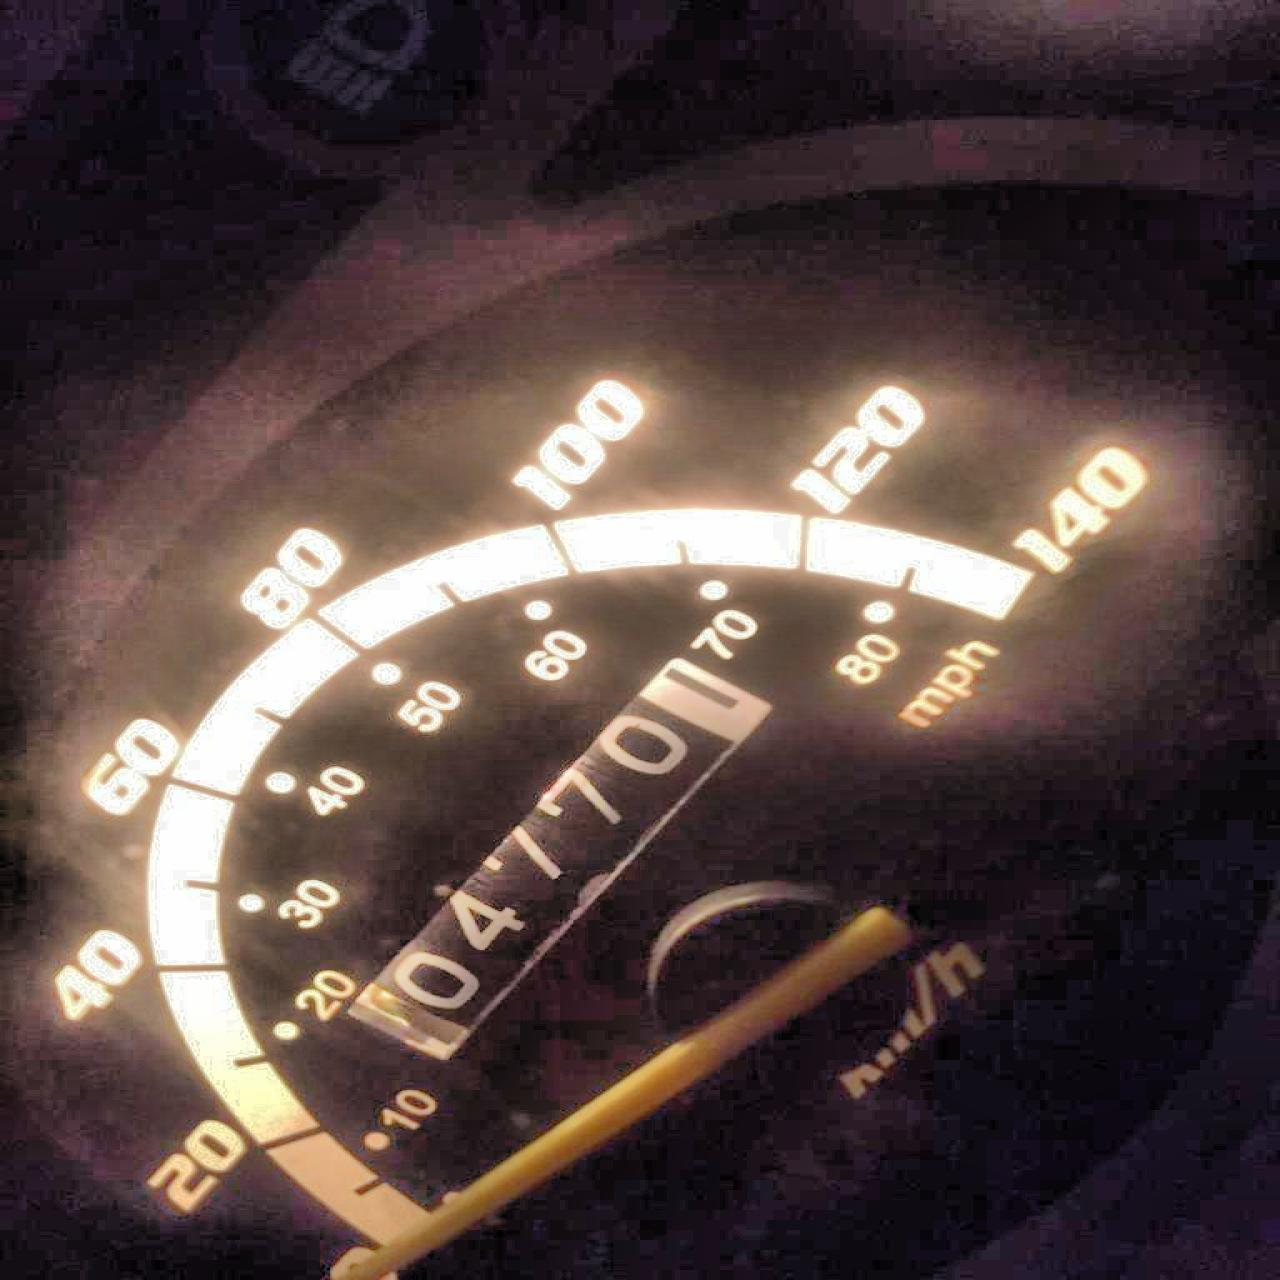0: (597, 714, 693, 779), (390, 954, 485, 1012), (415, 678, 463, 712), (319, 761, 365, 795), (313, 967, 356, 998)
1: (656, 661, 745, 715)
4: (440, 886, 533, 953)
5: (392, 701, 443, 733)
6: (518, 648, 572, 682)
7: (530, 763, 628, 837), (477, 825, 565, 888)
odometer: (325, 652, 791, 1060)
